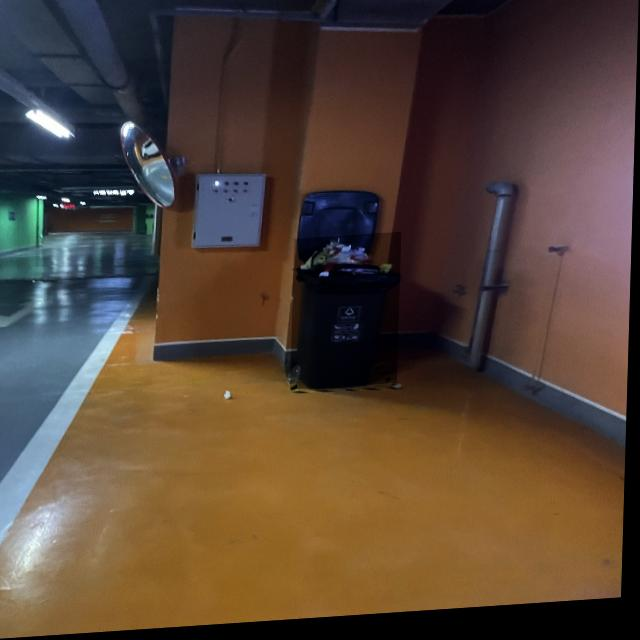overflow: (292, 237, 403, 394)
